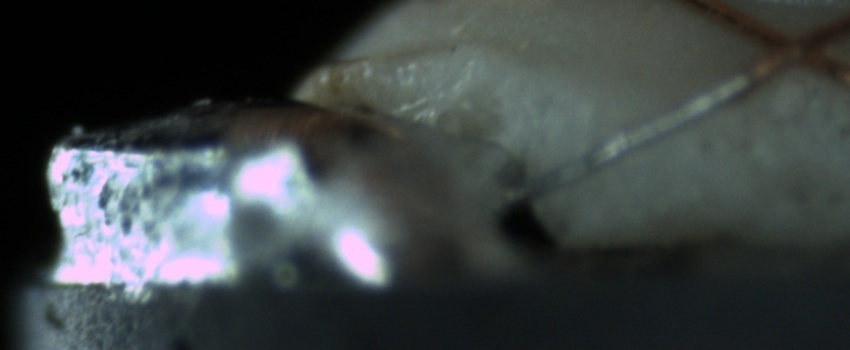CL: (743, 10, 843, 83)
TS: (504, 73, 762, 206)
